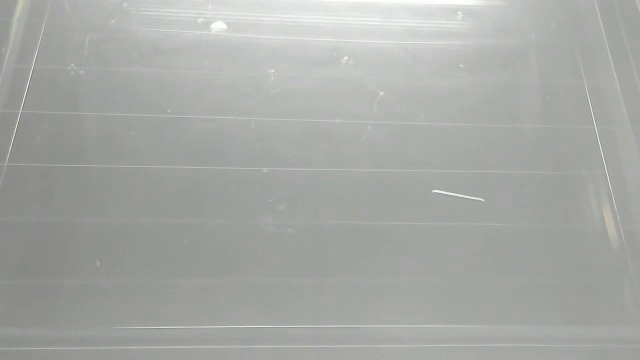alpha: (427, 186, 491, 206), (205, 19, 233, 37)
